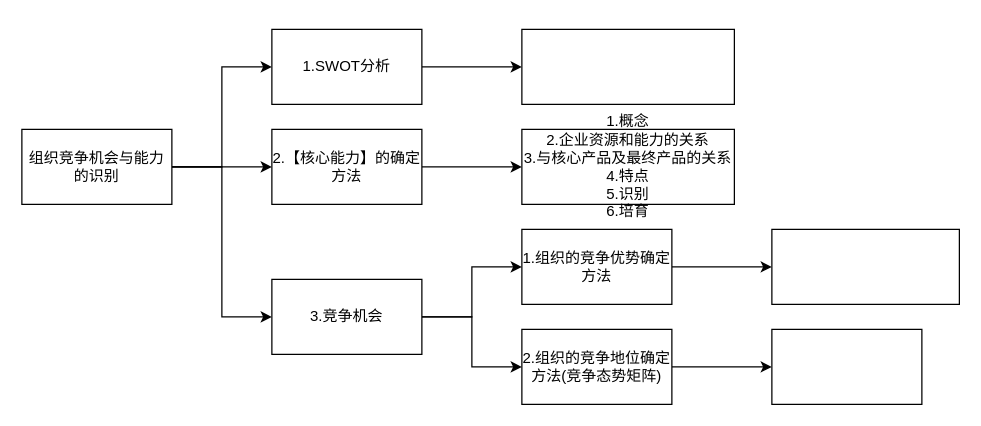
Some shapes in this 981 by 426 pixel diagram are drawn without their labels. The shapes that lost their labels are listed below. From the top down, each one's box as (x1, y1, x2, y2) in pixels, then its label:
(521, 28, 734, 104): 1.定义 2.决策准则 3.内容 4.SWOT分析矩阵，战略组合 5.实际运用
(771, 228, 959, 304): 1.企业资源、能力及竞争优势之间的关系 2.企业资源强势与弱势分析
(771, 328, 922, 404): 1.概念 2.步骤 3.意义与局限
